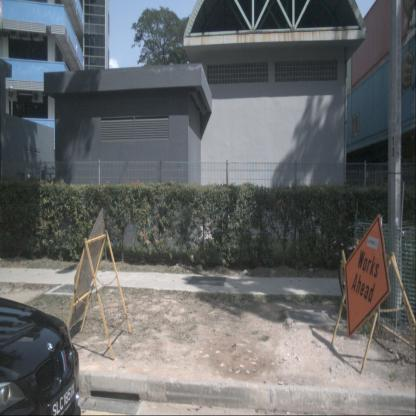vehicle-bicycle: (328, 223, 384, 318)
vehicle-car: (0, 296, 81, 415)
